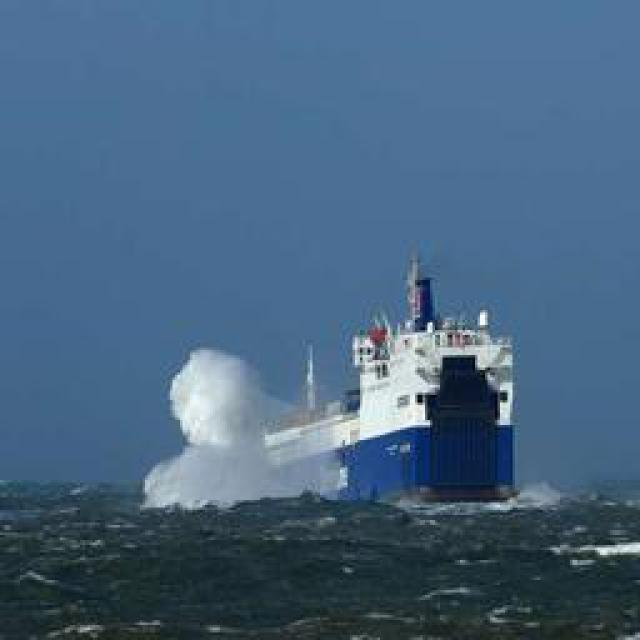Ship: (151, 240, 524, 515)
